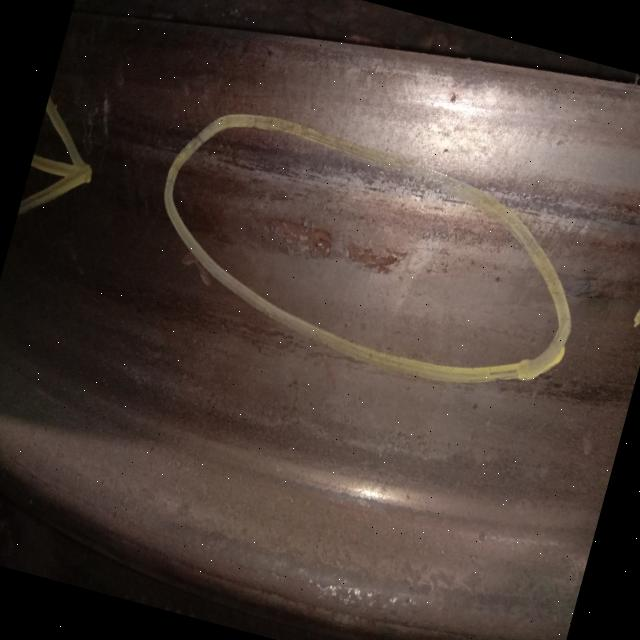Peeling: (238, 187, 427, 325)
